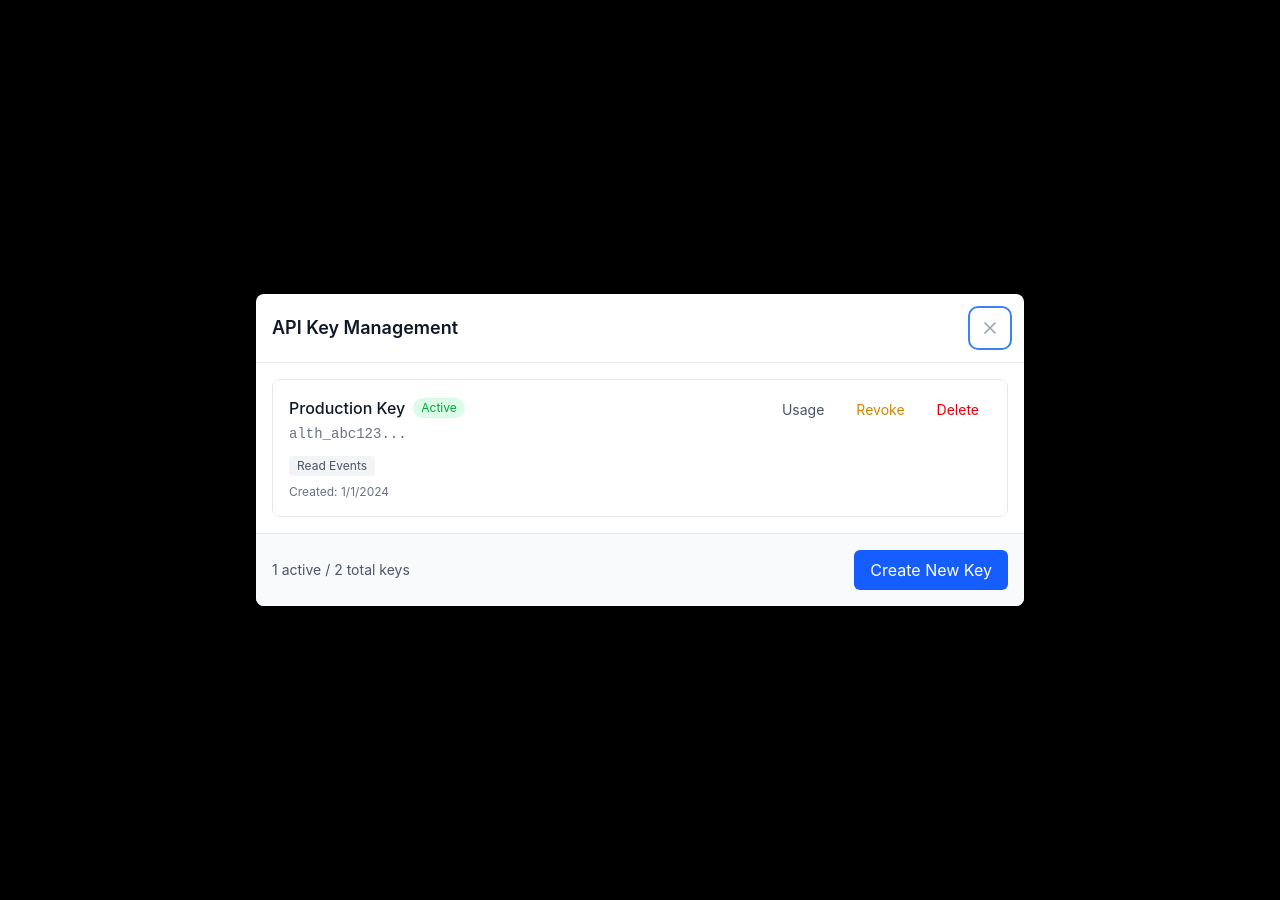
Test: ApiKeyDashboard › creates a key and shows the secret only once
Click the button "Create New Key".
click(931, 570)  # box top-left (854, 550), bottom-right (1008, 590)
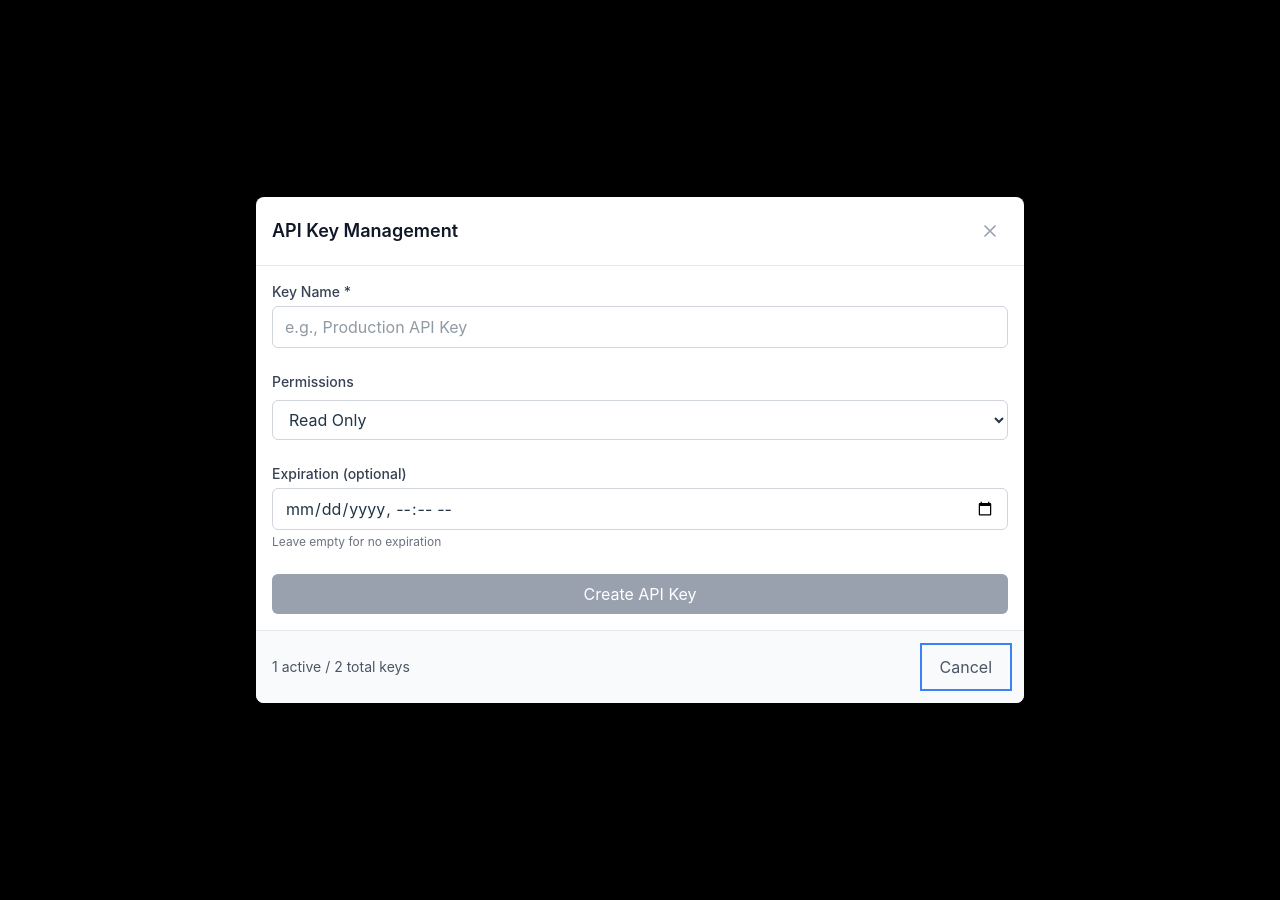
Type "New Key" into the field with placeholder "e.g., Production API Key".
click(640, 327); type("New Key")  # box top-left (272, 306), bottom-right (1008, 348)
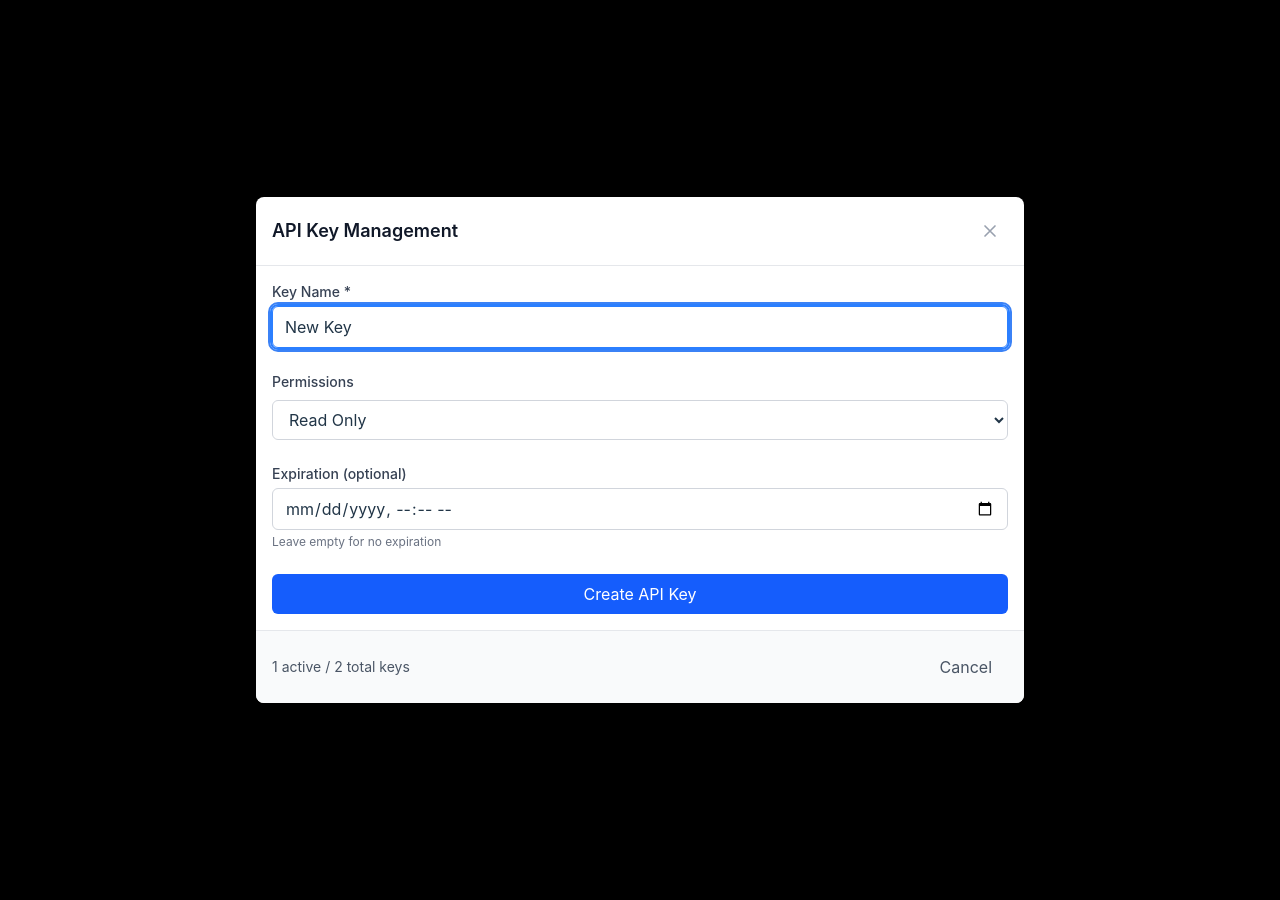
Click the button "Create API Key".
click(640, 594)  # box top-left (272, 574), bottom-right (1008, 614)
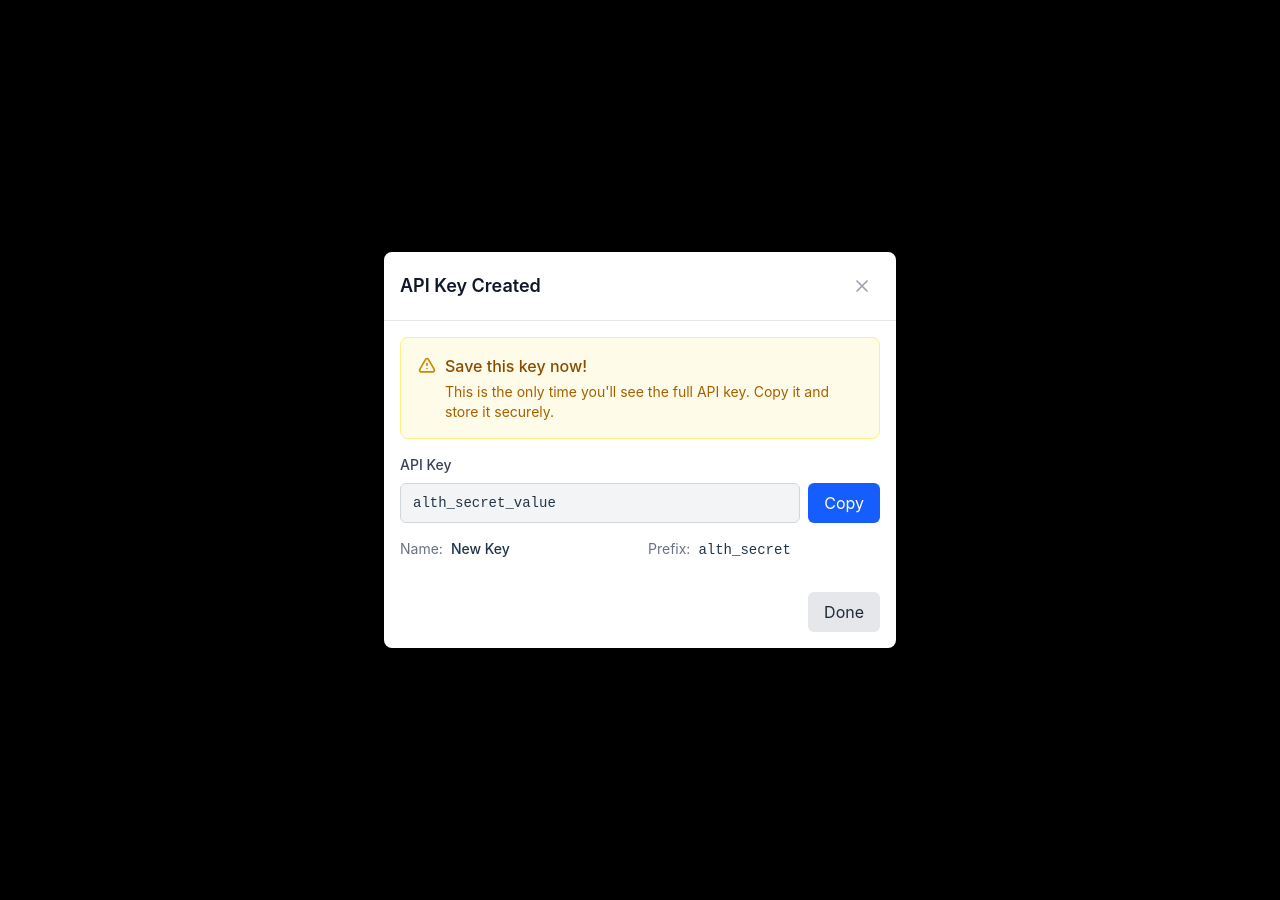
Now the heading "API Key Created" is shown, box top-left (400, 272), bottom-right (541, 300)
Now the text "This is the only time you'll see the full API key. Copy it and store it securely." is shown, box top-left (445, 383), bottom-right (829, 420)
Now the field showing "alth_secret_value" is shown, box top-left (400, 483), bottom-right (800, 523)
Click the button "Done".
click(844, 612)  # box top-left (808, 592), bottom-right (880, 632)
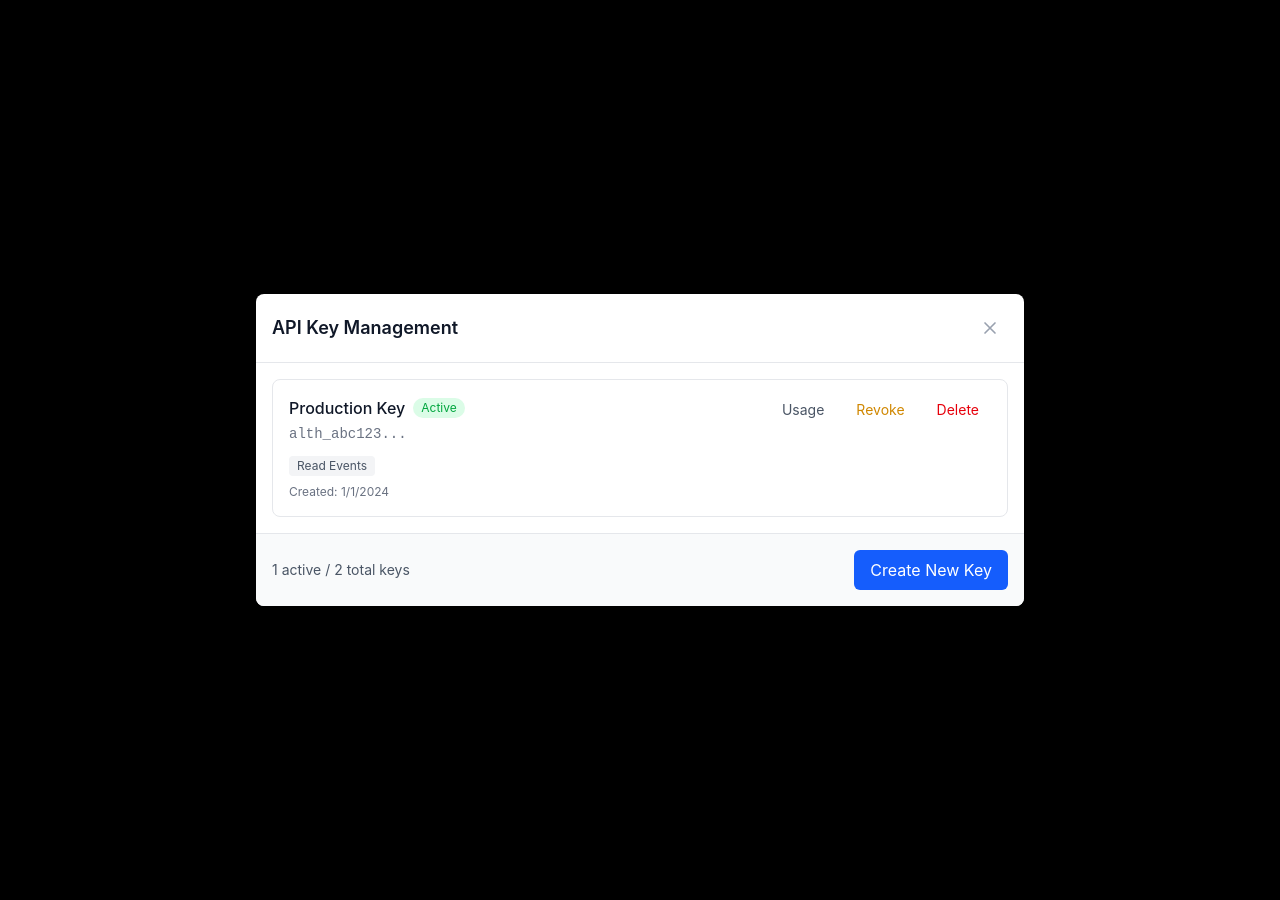
Expected: the field showing "alth_secret_value" is not shown
Now the heading "API Key Management" is shown, box top-left (272, 314), bottom-right (458, 342)
